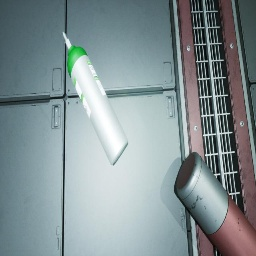0: (62, 32, 128, 165)
NitrogenTank ,: (176, 152, 256, 256)
